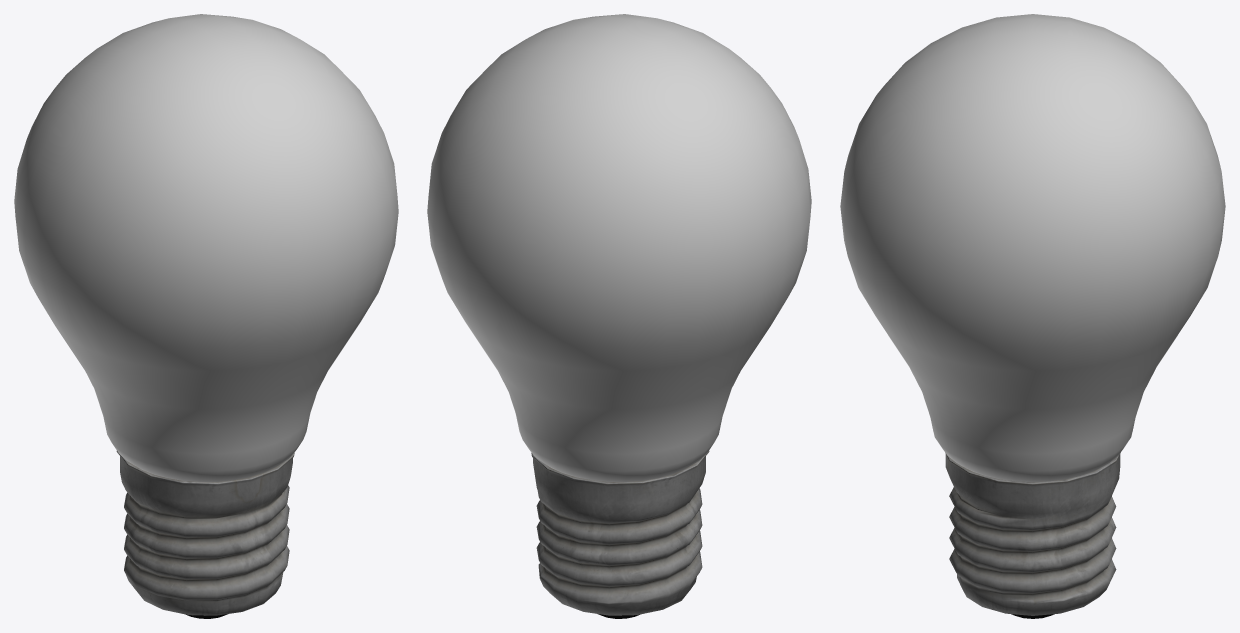
The picture shows the model from 3 angles, left to right: view 1: azimuth 30°, elevation 25°; view 2: azimuth 150°, elevation 25°; view 3: azimuth 270°, elevation 25°; orthographic projection.
Visible parts, largest first — view 1: lightbulb_01; view 2: lightbulb_01; view 3: lightbulb_01.
Part boxes in pixels (x1,y1,x2,y2): lightbulb_01: [14, 14, 398, 618]; lightbulb_01: [427, 14, 811, 618]; lightbulb_01: [840, 14, 1225, 618].
Bounding box in the file's own units: 0.6662 × 1.11 × 0.6662.
